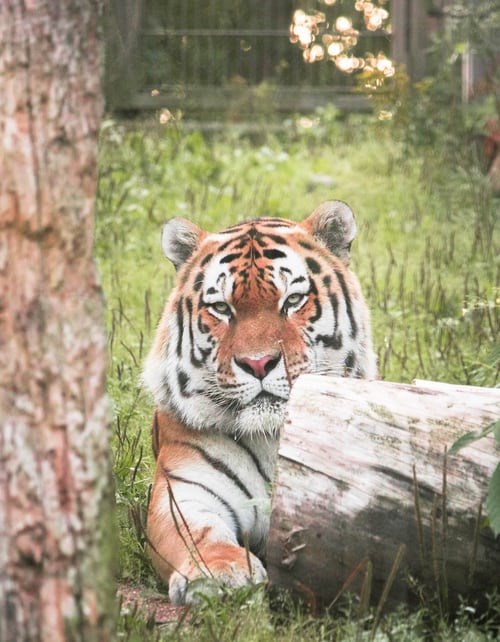tiger: (143, 203, 391, 448)
